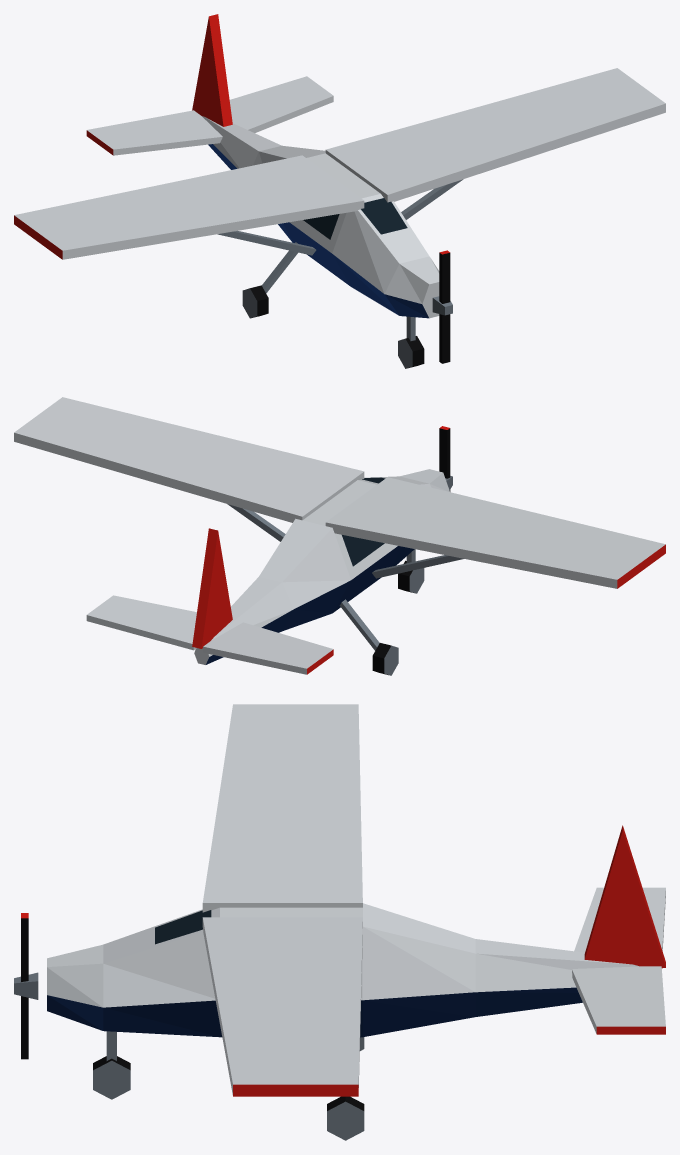
File: Cessna.obj
3 views of the same model, one above another, from view 1: azimuth 30°, elevation 25°; view 2: azimuth 150°, elevation 25°; view 3: azimuth 270°, elevation 25° (orthographic). The views are drawn at different scales.
Visible parts, largest first — view 1: RightWing, LeftWing, Fuselage, LeftStabilizer, RightStabilizer, VerticalFin, CockpitWindows, WingSupportBraces, Propeller, LeftMainWheel, NoseWheel, LandingGearStruts; view 2: RightWing, LeftWing, Fuselage, LeftStabilizer, RightStabilizer, VerticalFin, WingSupportBraces, CockpitWindows, LeftMainWheel, LandingGearStruts, Propeller, NoseWheel; view 3: Fuselage, LeftWing, RightWing, VerticalFin, RightStabilizer, LeftStabilizer, RightMainWheel, NoseWheel, Propeller, CockpitWindows.
Part boxes in pixels (x1,y1,x2,y2): RightWing: (325, 68, 665, 202); LeftWing: (14, 155, 364, 259); Fuselage: (202, 116, 439, 318); LeftStabilizer: (86, 110, 222, 155); RightStabilizer: (229, 76, 333, 132); VerticalFin: (192, 14, 232, 126); CockpitWindows: (303, 198, 407, 239); WingSupportBraces: (217, 179, 463, 255); Propeller: (439, 250, 450, 363); LeftMainWheel: (242, 285, 268, 318); NoseWheel: (398, 336, 424, 368); LandingGearStruts: (261, 242, 415, 341); RightWing: (14, 397, 364, 522); LeftWing: (325, 477, 665, 588); Fuselage: (194, 469, 449, 664); LeftStabilizer: (203, 622, 333, 674); RightStabilizer: (86, 595, 196, 650); VerticalFin: (192, 528, 232, 648); WingSupportBraces: (227, 504, 463, 578); CockpitWindows: (342, 477, 385, 566); LeftMainWheel: (372, 643, 398, 675); LandingGearStruts: (339, 549, 415, 650); Propeller: (439, 426, 450, 491); NoseWheel: (398, 560, 424, 593); Fuselage: (47, 903, 638, 1037); LeftWing: (202, 704, 362, 912); RightWing: (202, 917, 362, 1096); VerticalFin: (584, 825, 665, 968); RightStabilizer: (572, 966, 665, 1034); LeftStabilizer: (574, 887, 665, 952); RightMainWheel: (327, 1096, 364, 1140); NoseWheel: (93, 1056, 130, 1099); Propeller: (21, 913, 28, 1059); CockpitWindows: (155, 910, 211, 944).
Size of the model in its own units: 10.4 by 3.42 by 7.53.
